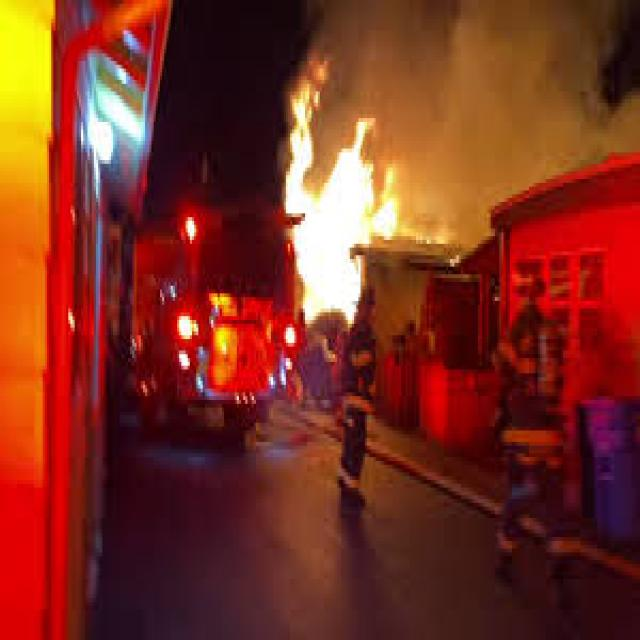fire: (276, 56, 411, 334)
